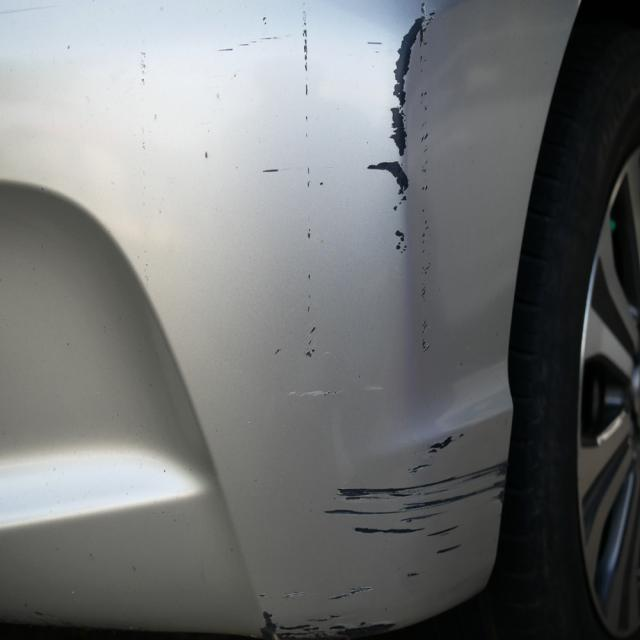scratch: (120, 0, 512, 640)
